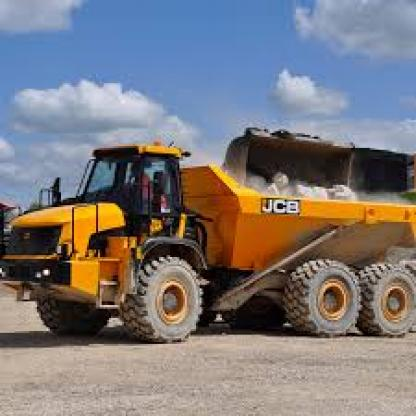dump_truck: (9, 94, 414, 346)
